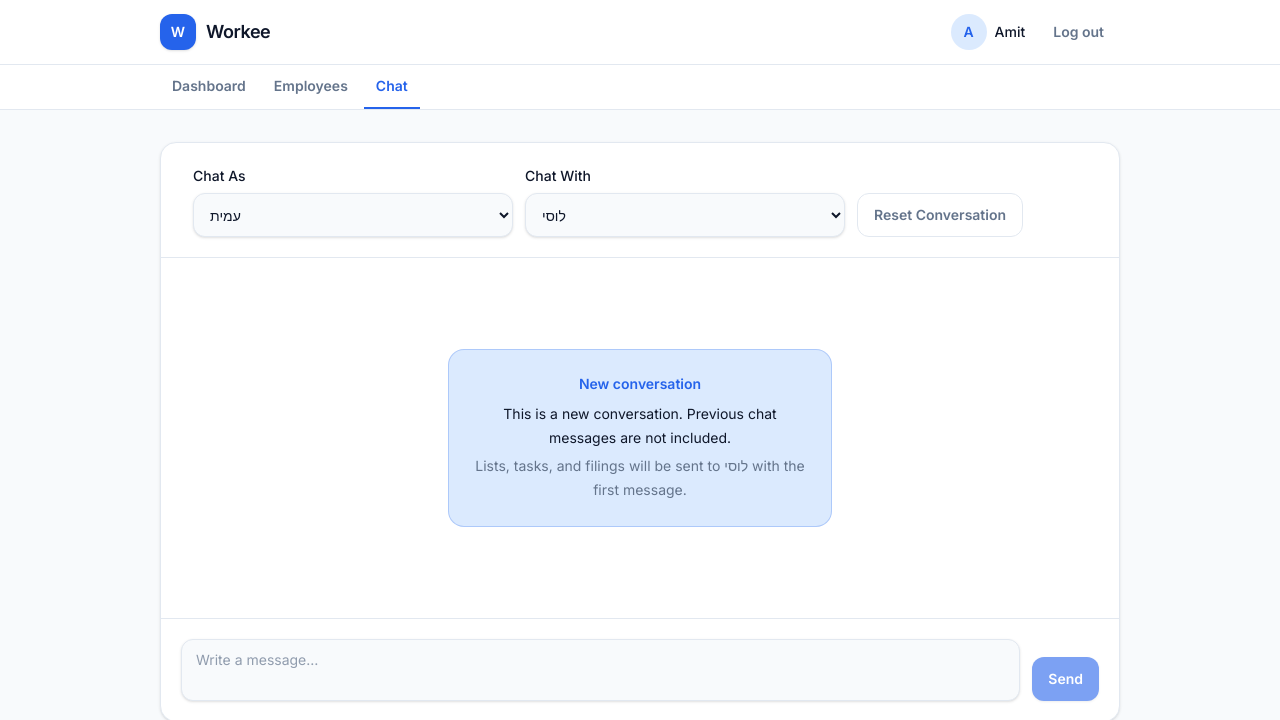
Test: Chat page › sends the typed message to the API and shows the reply
The width and height of the screenshot is (1280, 720).
Expected: the element with test id "new-conversation" shows "New conversation", 579,375 -> 701,392
Expected: the button "Reset Conversation" is shown, 857,193 -> 1023,237
In the text box labelled "message": {"x": 601, "y": 670} 181,639 -> 1020,701, type "hi"
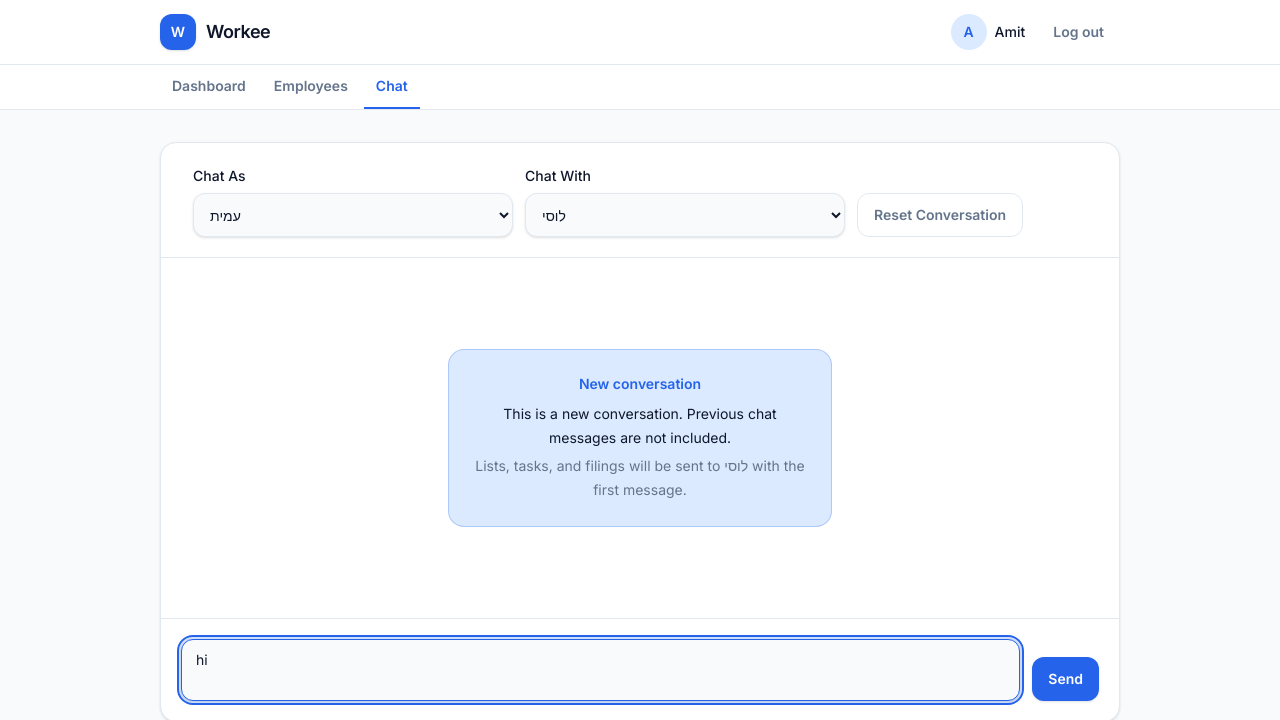
Click the button "Send": {"x": 1066, "y": 679} 1032,657 -> 1099,701
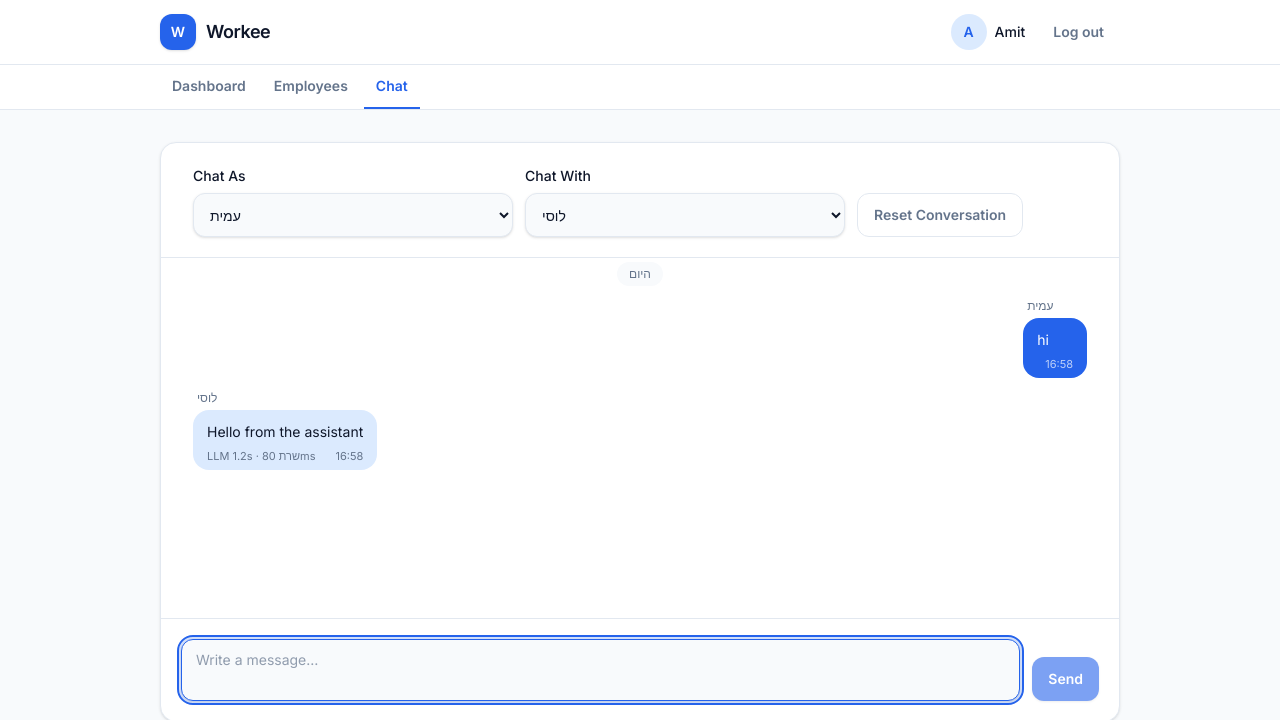
Now the text "Hello from the assistant" is shown, box 207,420 -> 363,444
Now the text "היום" is shown, box 617,262 -> 663,286
Now the text with test id "chat-time" below "hi" is shown, box 1045,356 -> 1073,372
